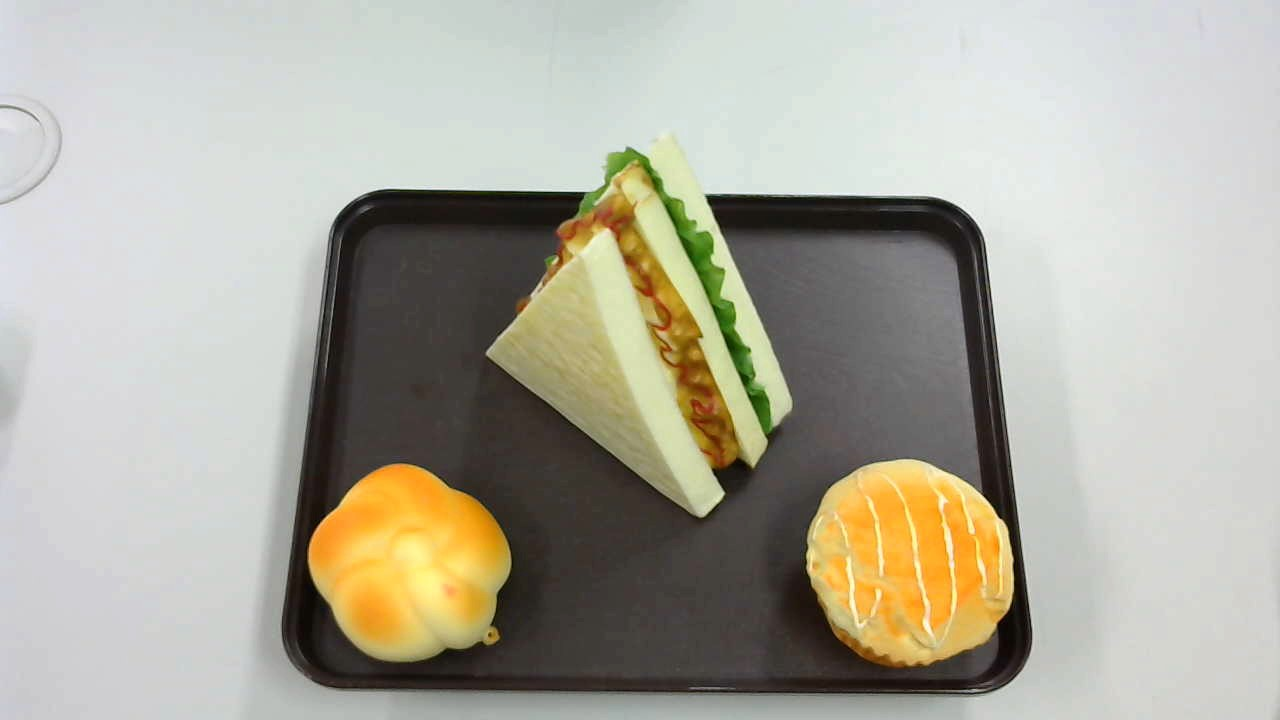cupcake: (805, 459, 1015, 669)
sandwich: (484, 134, 794, 518)
twist bread: (307, 464, 510, 661)
